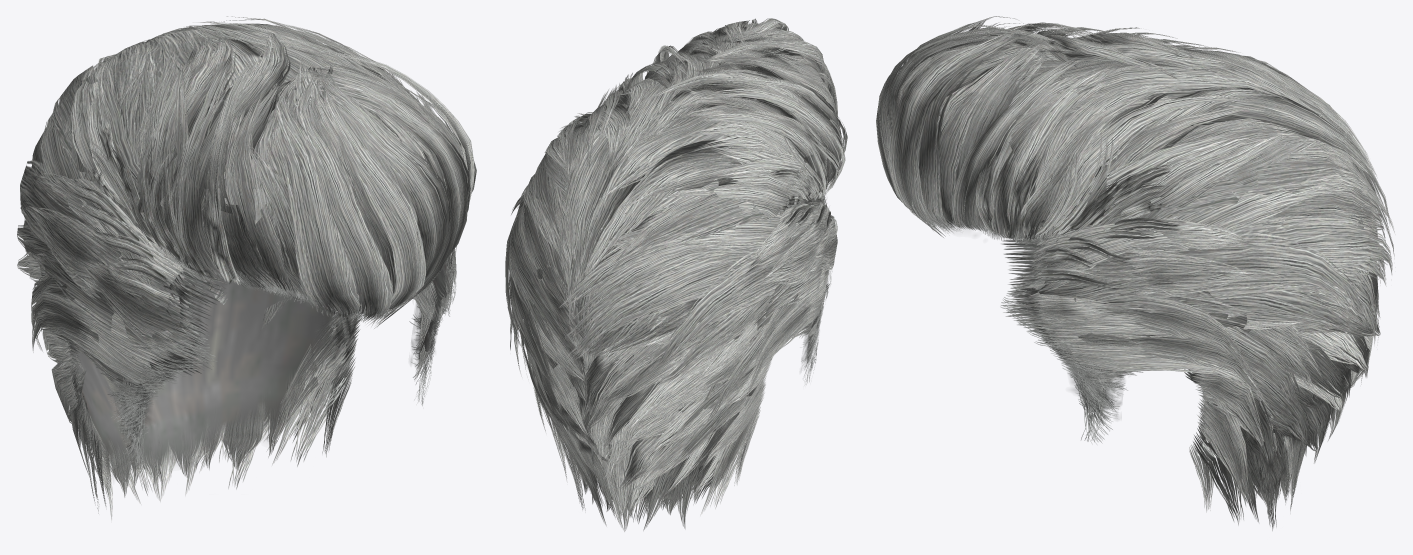
The model's file is hair008.glb.
3 views of the same model, side by side, from view 1: azimuth 30°, elevation 25°; view 2: azimuth 150°, elevation 25°; view 3: azimuth 270°, elevation 25° (orthographic). The views are drawn at different scales.
Parts seen in each view (by area): view 1: hair, scalp, hair2; view 2: hair, hair2; view 3: hair, hair2, scalp.
Part boxes in pixels (x1,y1,x2,y2): hair: [17, 16, 476, 520]; scalp: [74, 261, 448, 476]; hair2: [39, 74, 451, 497]; hair: [505, 18, 847, 531]; hair2: [543, 105, 827, 517]; hair: [876, 16, 1394, 530]; hair2: [1001, 108, 1289, 510]; scalp: [951, 222, 1124, 417].
Size of the model in its own units: 0.1393 by 0.2149 by 0.2026.
Materials: 2 (2 with a texture image).
